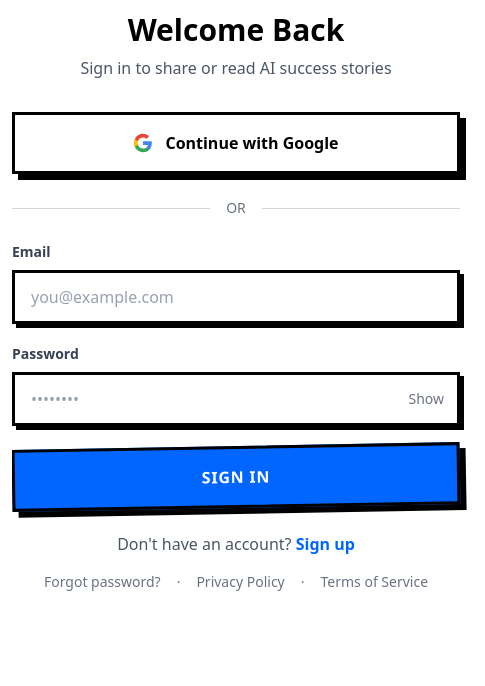
SignInForm (Memphis) › shows error message on failed sign in
The width and height of the screenshot is (485, 686).
Step 1. Type "test@example.com" into the field labelled "Email" → (236, 297), box [12, 270, 460, 324]
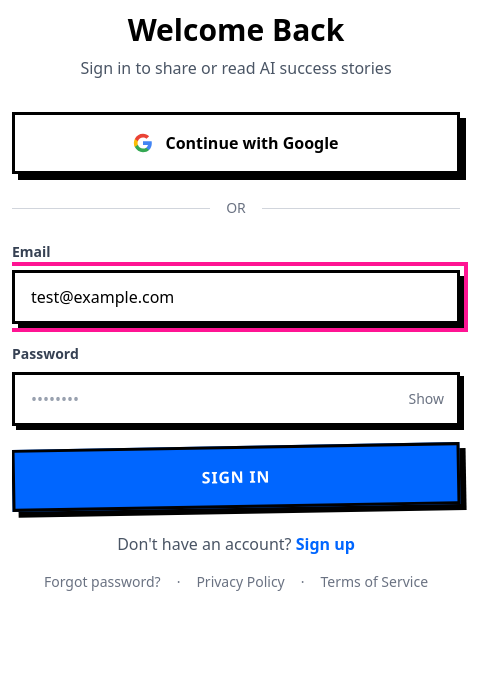
Step 2. Type "wrongpassword" into the password field labelled "Password" → (236, 399), box [12, 372, 460, 426]
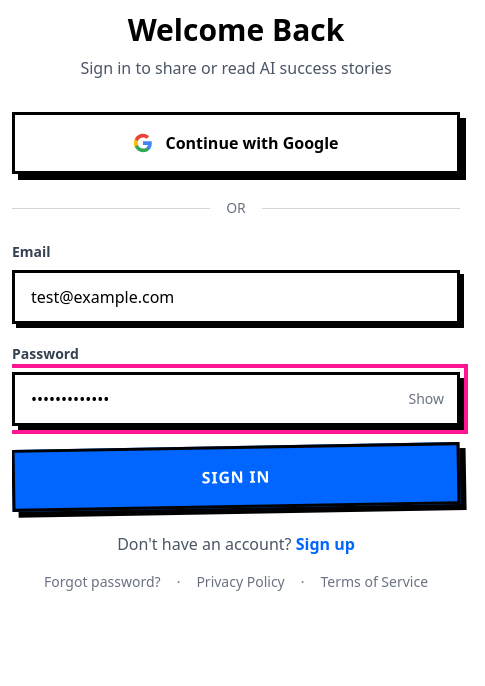
Step 3. Click the button "Sign In" → (236, 477), box [12, 442, 460, 512]
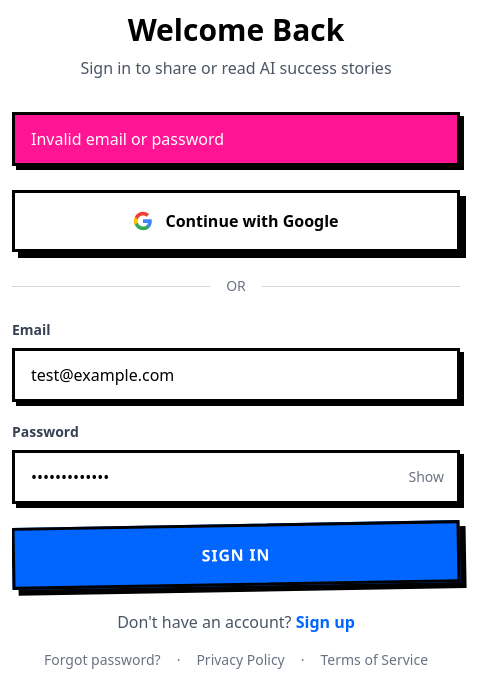
expect the text "Invalid email or password" is shown: met, box [12, 112, 460, 166]
